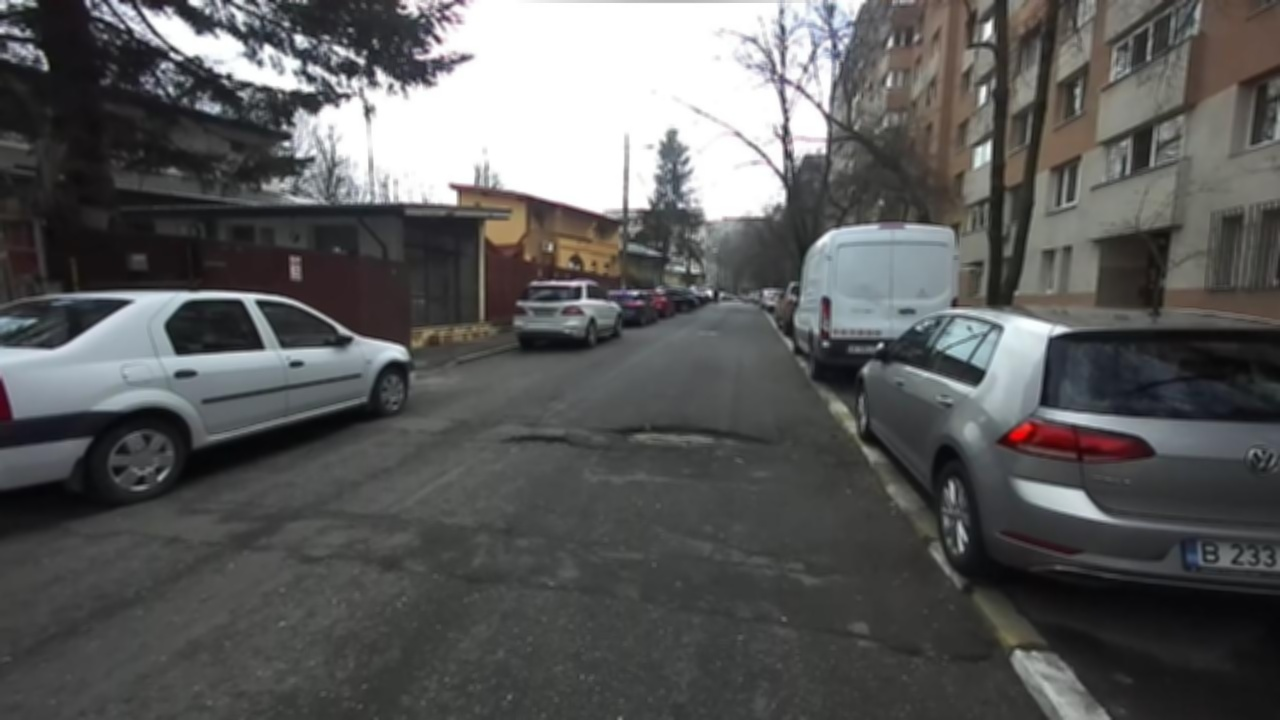pothole: (818, 622, 986, 674), (606, 417, 778, 453), (498, 432, 582, 448)
